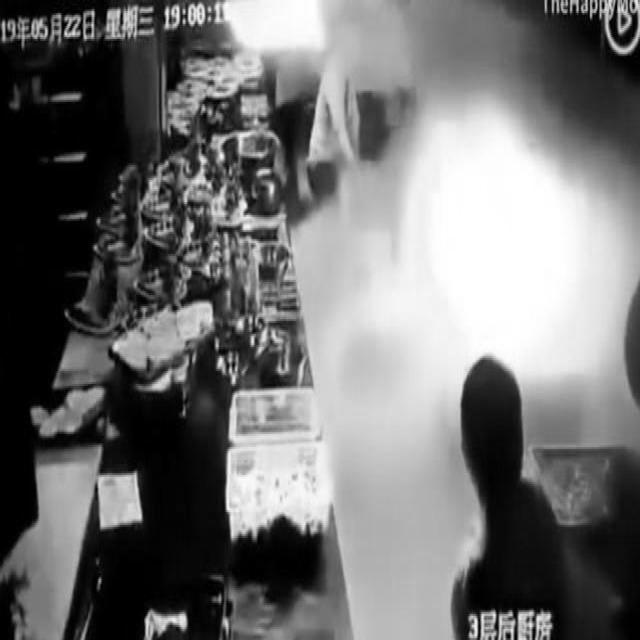smoke: (412, 90, 597, 380)
